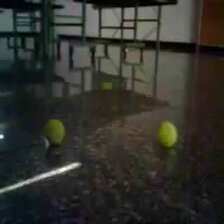tennis: (156, 122, 179, 147), (45, 119, 66, 145)
